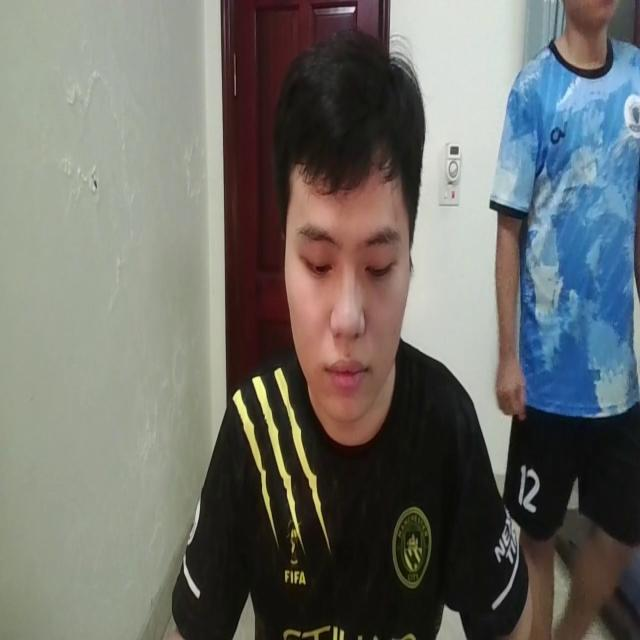extra_person: (490, 0, 640, 640)
student: (176, 37, 528, 640)
